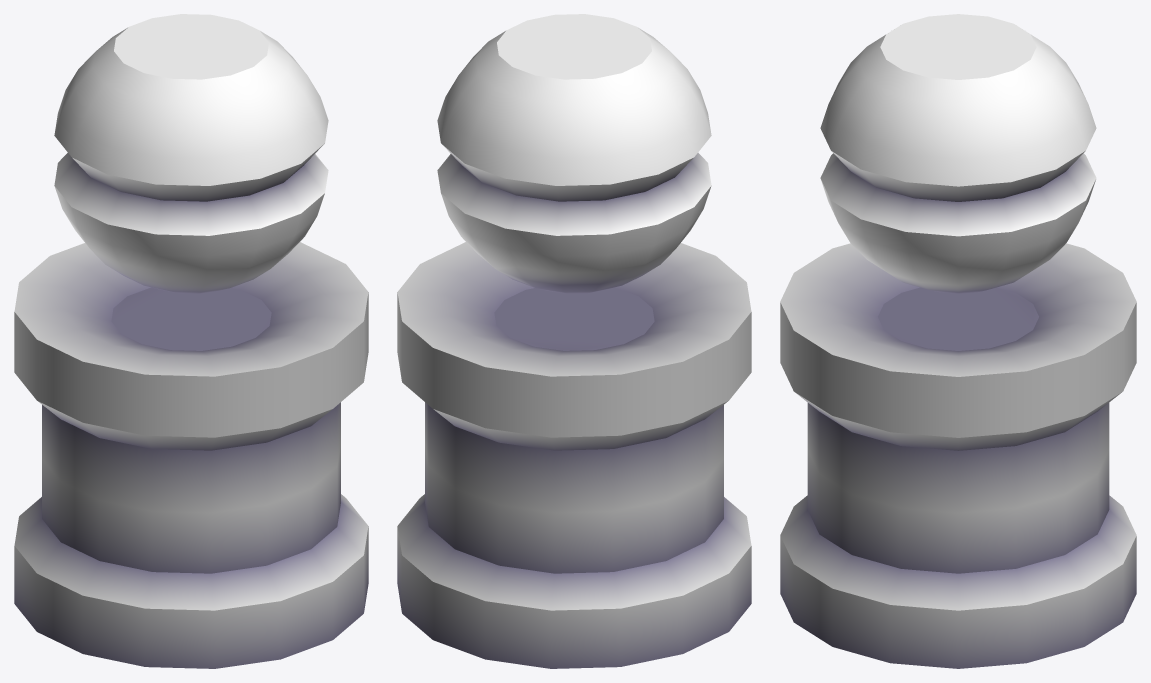
Rendered from wallColor.glb.
3 views of the same model, side by side, from view 1: azimuth 30°, elevation 25°; view 2: azimuth 150°, elevation 25°; view 3: azimuth 270°, elevation 25° (orthographic).
Parts seen in each view (by area): view 1: Wall_Out; view 2: Wall_Out; view 3: Wall_Out.
Part boxes in pixels (box(x1,y1,x2,y2)): Wall_Out: box(14, 14, 368, 668); Wall_Out: box(397, 14, 751, 668); Wall_Out: box(780, 14, 1136, 668).
Size of the model in its own units: 4.18 by 7.06 by 4.18.
